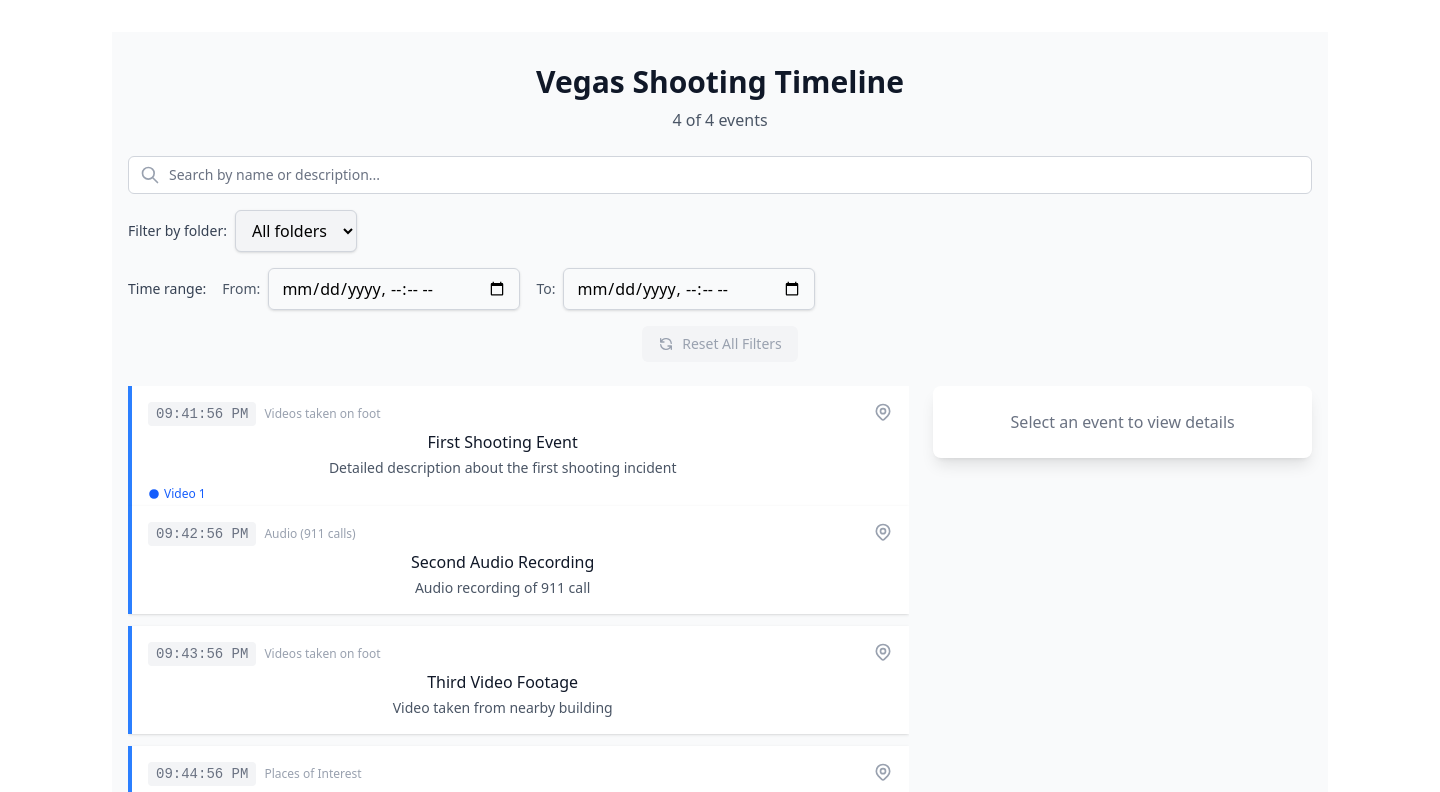
Test: Timeline - Search Filter with Debounce › filters events by description after debounce delay
The width and height of the screenshot is (1440, 792).
Expected: the heading "First Shooting Event" is shown, [428,431,578,453]
Note: Search for text that appears in description only
Type "911" into the field with placeholder "Search by name or description..." at (720, 175), box [128,156,1312,194]
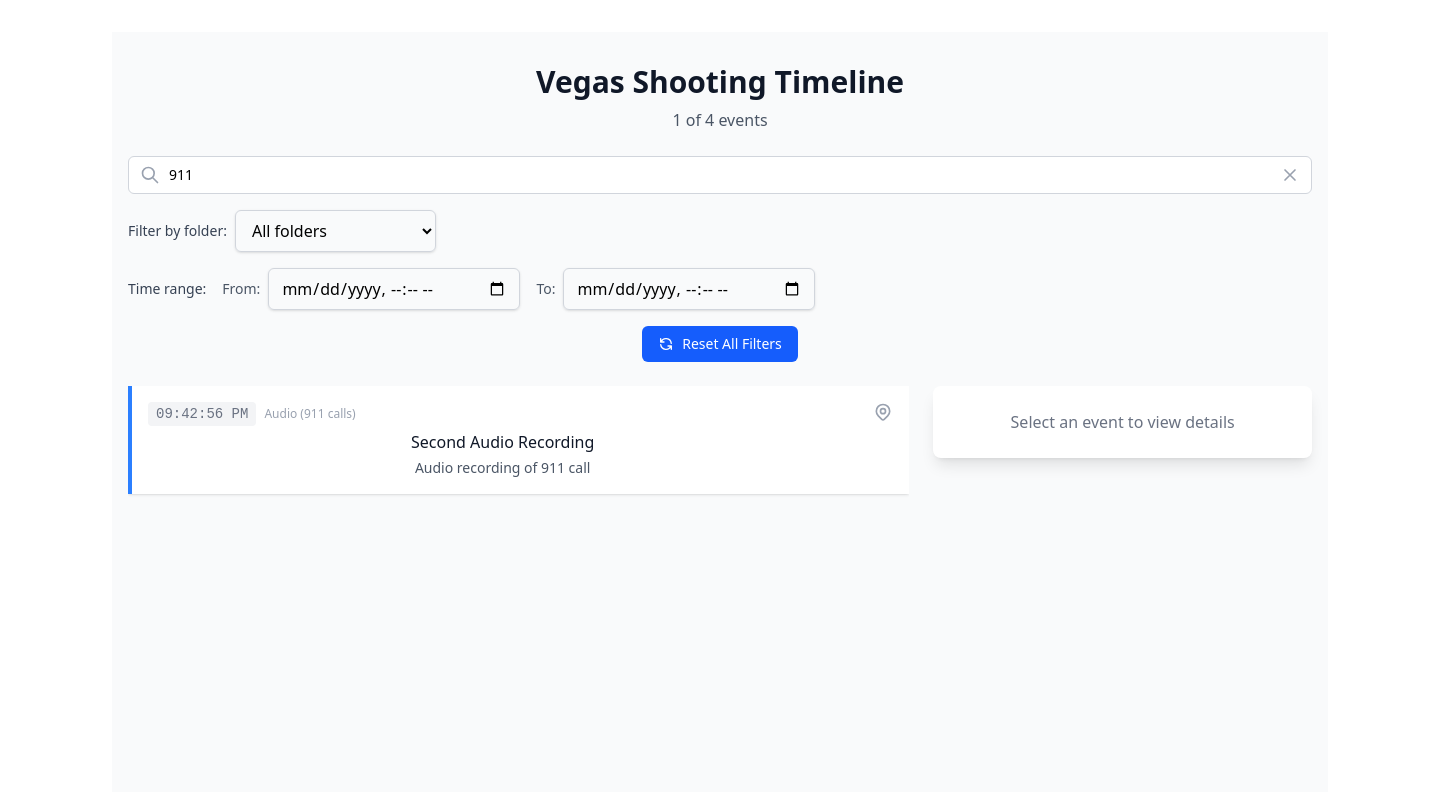
Expected: the heading "Second Audio Recording" is shown, [411,431,594,453]
Result: the heading "First Shooting Event" is gone
Result: the heading "Third Video Footage" is gone
